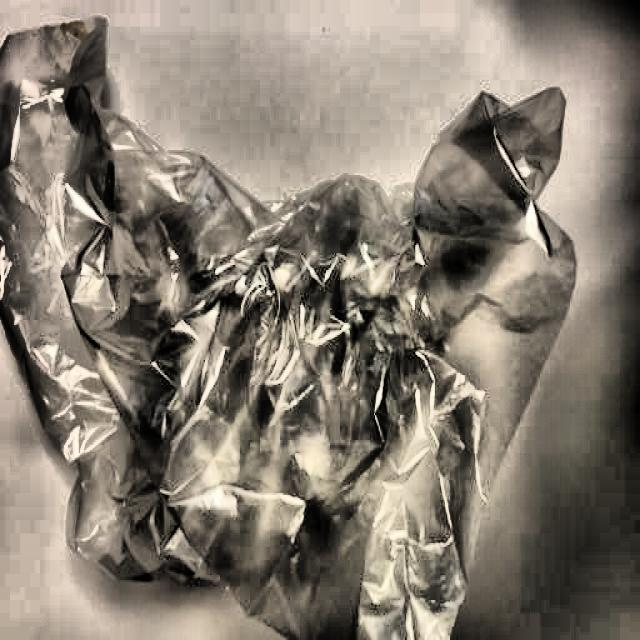plastic: (0, 16, 565, 640)
